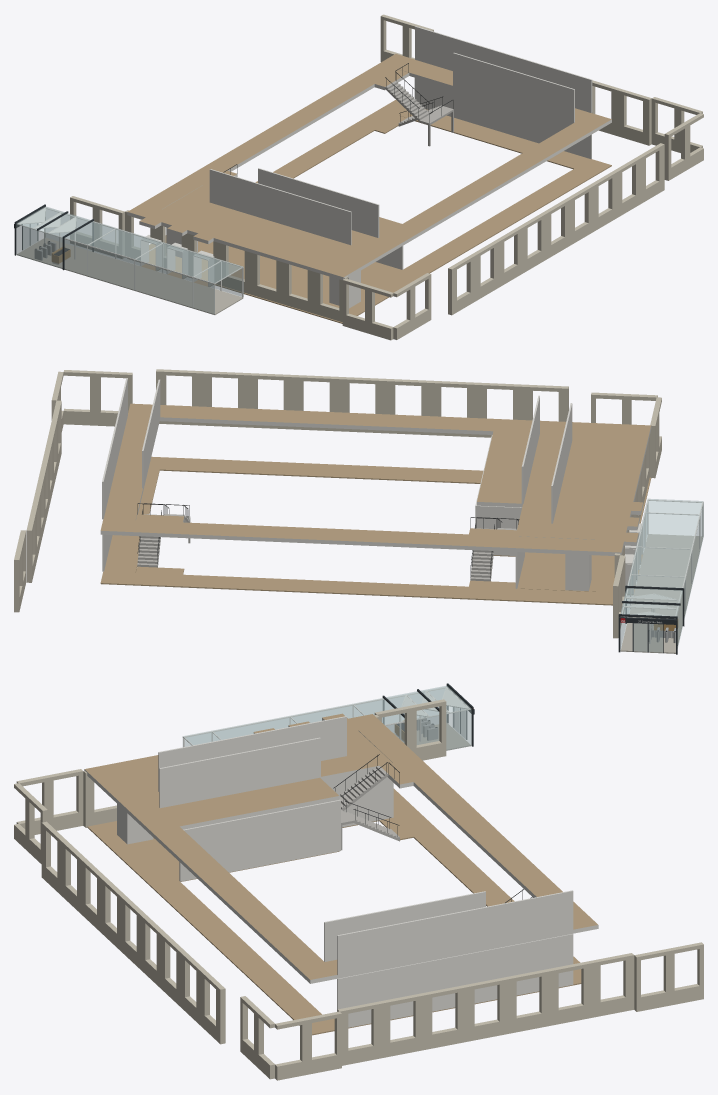
The model's file is sal-interior.glb.
3 renders of one model, top to bottom at view 1: azimuth 30°, elevation 25°; view 2: azimuth 150°, elevation 25°; view 3: azimuth 270°, elevation 25°, orthographic. The views are drawn at different scales.
Parts seen in each view (by area): view 1: SAL_INTERIOR; view 2: SAL_INTERIOR; view 3: SAL_INTERIOR.
Boxes of the visible parts, x1=… form: SAL_INTERIOR: x1=14, y1=14, x2=703, y2=340; SAL_INTERIOR: x1=14, y1=369, x2=703, y2=654; SAL_INTERIOR: x1=14, y1=683, x2=703, y2=1080.
Size of the model in its own units: 67.39 by 8.45 by 54.89.
